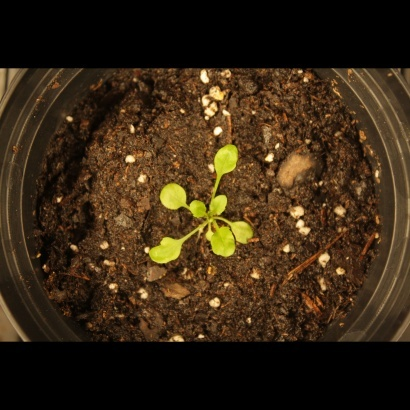leaf: (147, 231, 188, 273), (212, 138, 243, 183), (206, 226, 239, 263), (159, 180, 189, 216), (230, 220, 258, 248), (208, 193, 233, 220), (187, 198, 210, 221)
